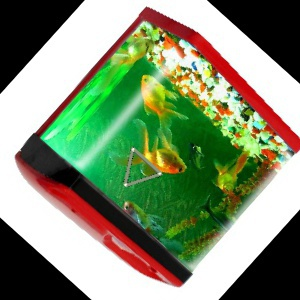triangle: (122, 145, 163, 188)
